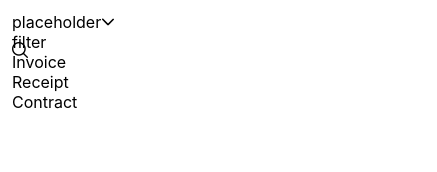
Test: TagPicker — create-tag row (#288) › offers the create row, labelled with the typed text, once nothing matches
Type "Insurance 2026" into the search field with class "tp-filter-input" at (136, 42), box x1=12 y1=32 x2=260 y2=52
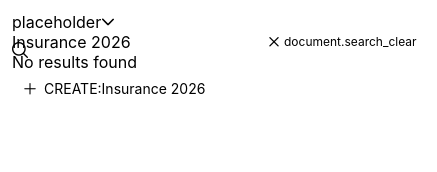
Check: the button with class "tp-create-row" reads "CREATE:Insurance 2026", box x1=12 y1=72 x2=420 y2=105
